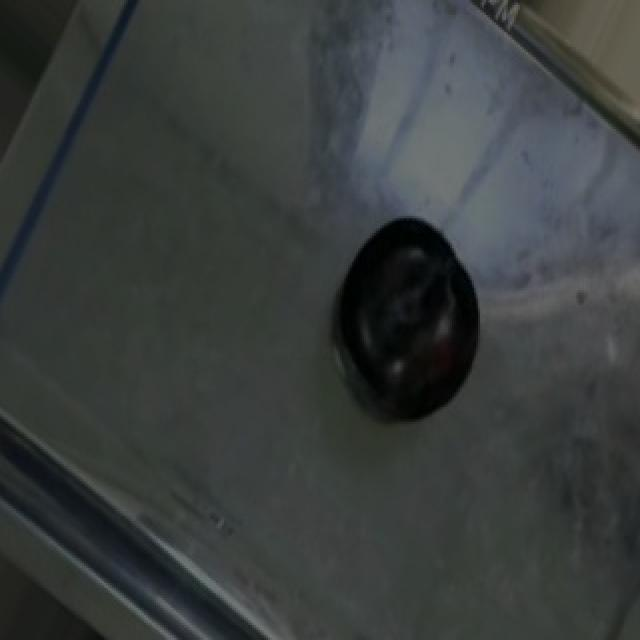Fruit: (312, 218, 496, 444), (490, 0, 640, 166)
